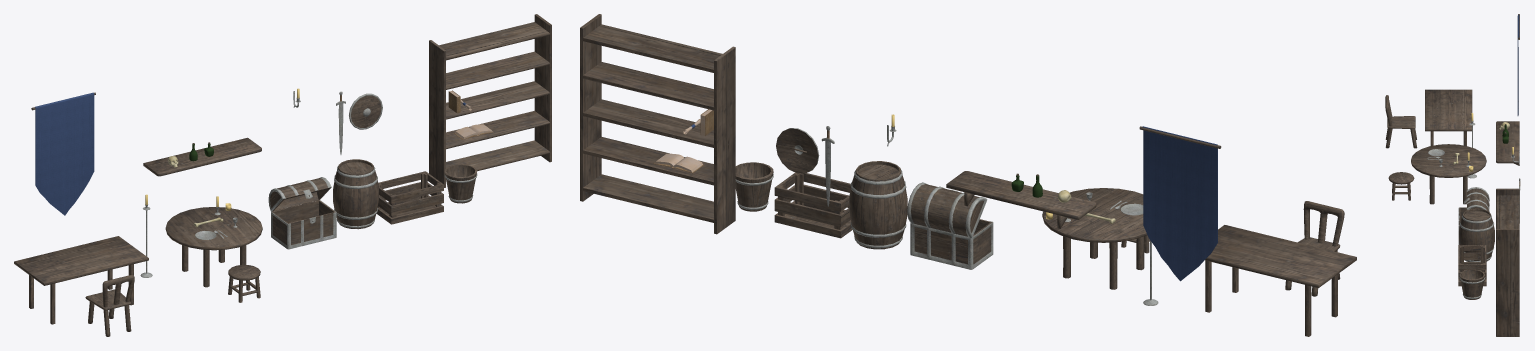
Rendered from Fantasy Interior Items.fbx.
3 views of the same model, side by side, from view 1: azimuth 30°, elevation 25°; view 2: azimuth 150°, elevation 25°; view 3: azimuth 270°, elevation 25° (orthographic). The views are drawn at different scales.
Visible parts, largest first — view 1: Bookshelf, Tapestry, Table - Rectangular, Table - Round, Barrel, Crate, Chest, Shelf, Chair, Lid, Bucket, Shield (+1 smaller); view 2: Bookshelf, Tapestry, Table - Rectangular, Table - Round, Barrel, Crate, Shelf, Lid, Chest, Bucket, Shield, Chair (+1 smaller); view 3: Bookshelf, Table - Round, Table - Rectangular, Barrel, Shelf, Crate, Chair, Bucket, Lid, Stool, Tapestry.
Part boxes in pixels (<box>): Bookshelf: <box>429,14,551,187</box>; Tapestry: <box>35,92,94,215</box>; Table - Rectangular: <box>14,236,148,324</box>; Table - Round: <box>165,207,262,287</box>; Barrel: <box>333,159,378,229</box>; Crate: <box>376,171,443,224</box>; Chest: <box>271,200,336,249</box>; Shelf: <box>143,137,261,176</box>; Chair: <box>85,274,134,336</box>; Lid: <box>268,177,331,211</box>; Bucket: <box>444,164,477,203</box>; Shield: <box>349,93,382,129</box>; Bookshelf: <box>580,14,735,234</box>; Tapestry: <box>1142,126,1217,281</box>; Table - Rectangular: <box>1205,225,1356,336</box>; Table - Round: <box>1042,188,1147,289</box>; Barrel: <box>849,161,907,249</box>; Crate: <box>774,172,852,238</box>; Shelf: <box>946,171,1096,228</box>; Lid: <box>907,182,987,237</box>; Chest: <box>910,219,993,269</box>; Bucket: <box>735,162,773,211</box>; Shield: <box>776,128,819,173</box>; Chair: <box>1285,201,1344,296</box>; Bookshelf: <box>1496,188,1519,336</box>; Table - Round: <box>1411,144,1486,204</box>; Table - Rectangular: <box>1425,89,1472,145</box>; Barrel: <box>1458,208,1494,261</box>; Shelf: <box>1496,121,1519,165</box>; Crate: <box>1458,245,1486,286</box>; Chair: <box>1385,95,1417,148</box>; Bucket: <box>1459,269,1485,299</box>; Lid: <box>1463,187,1489,211</box>; Stool: <box>1388,172,1414,200</box>; Tapestry: <box>1517,15,1519,115</box>.
Size of the model in its own units: 1056 by 304 by 285.
Materials: 8 (8 with a texture image).
